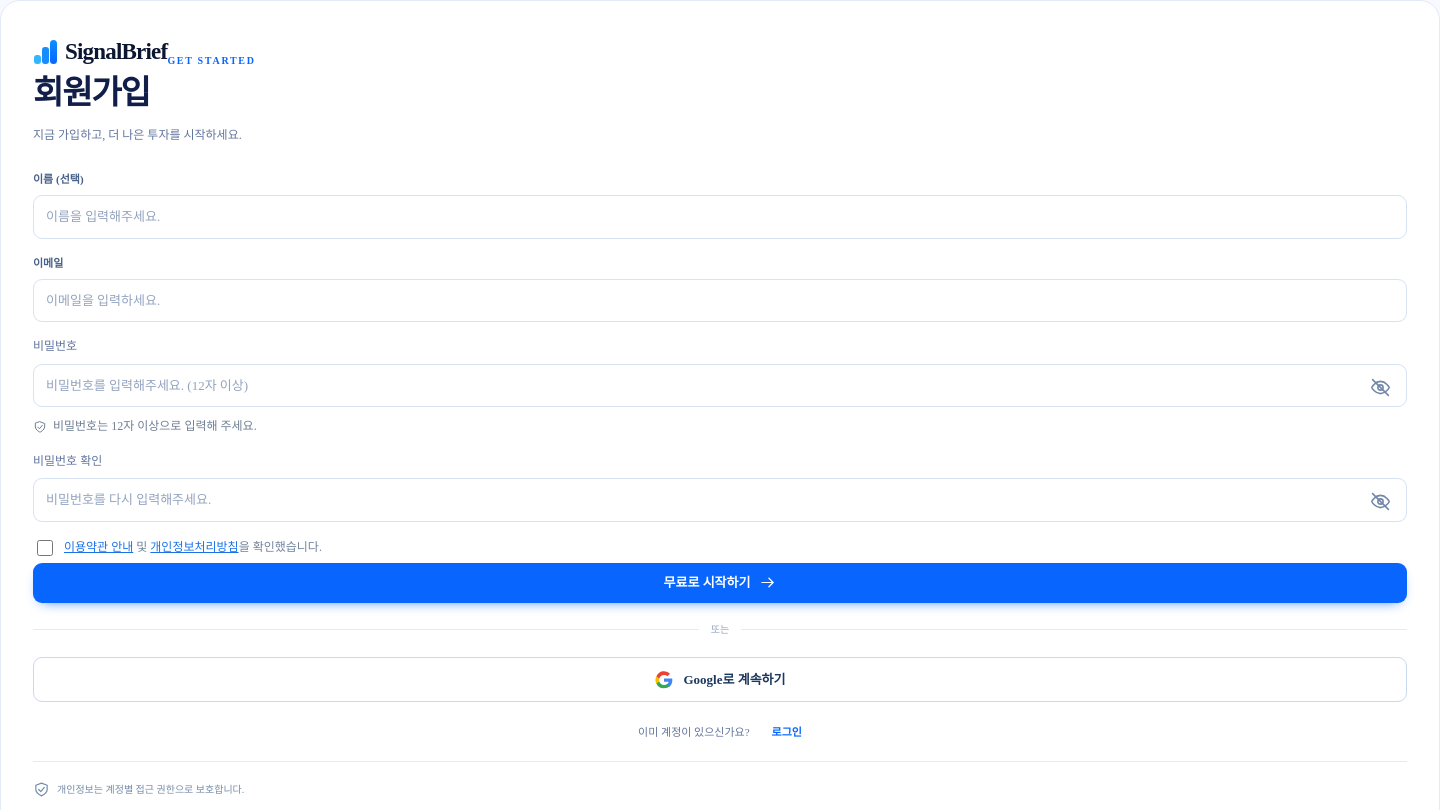
Test: rejects mismatching signup passwords before contacting Supabase
Type "fixture@example.com" into the field labelled "이메일" at (720, 300), box [33, 279, 1407, 322]
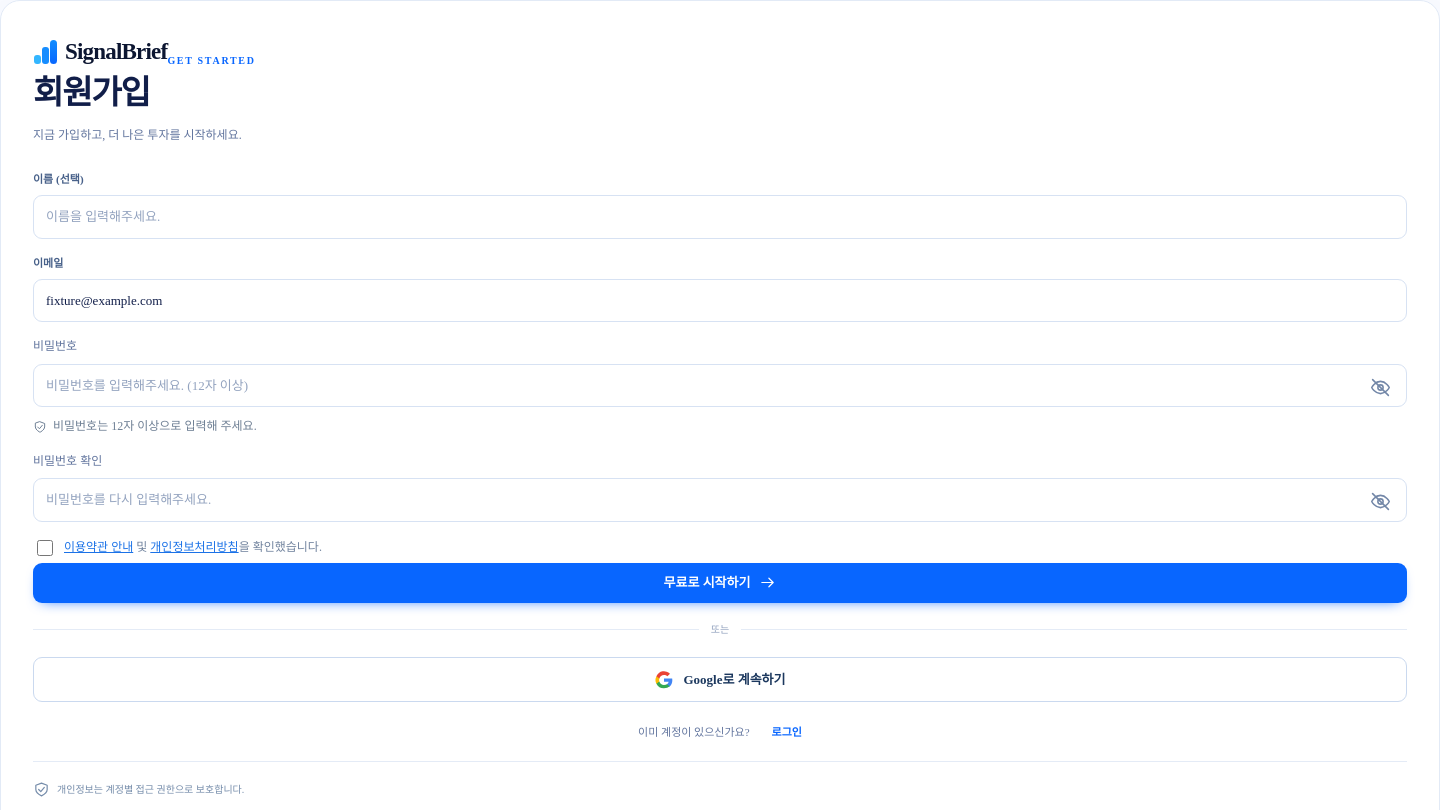
Type "fixture-password-123" into the password field labelled "비밀번호" at (720, 386), box [33, 364, 1407, 407]
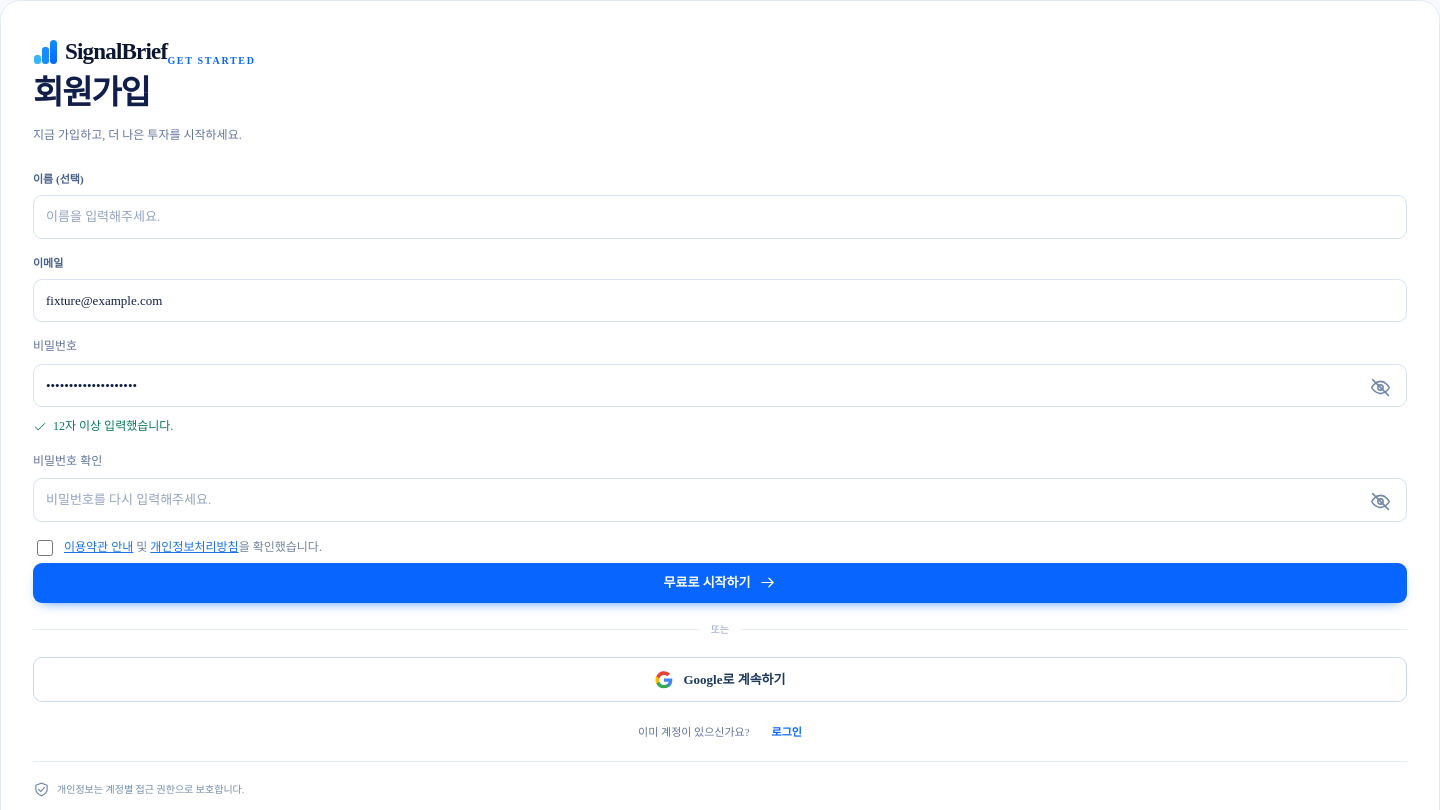
Type "different-password-123" into the password field labelled "비밀번호 확인" at (720, 500), box [33, 478, 1407, 522]
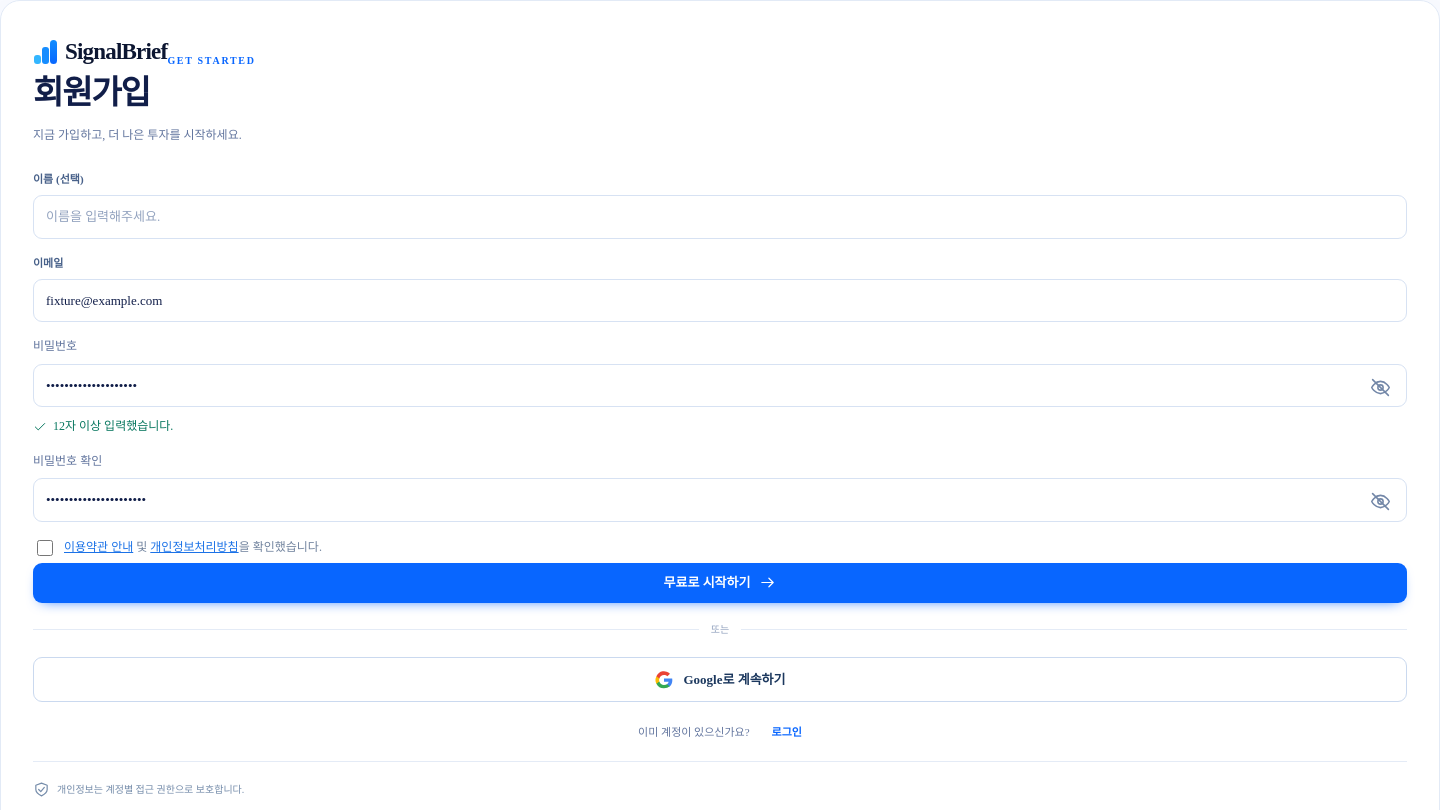
Click the checkbox at (45, 548), box [37, 540, 53, 556]
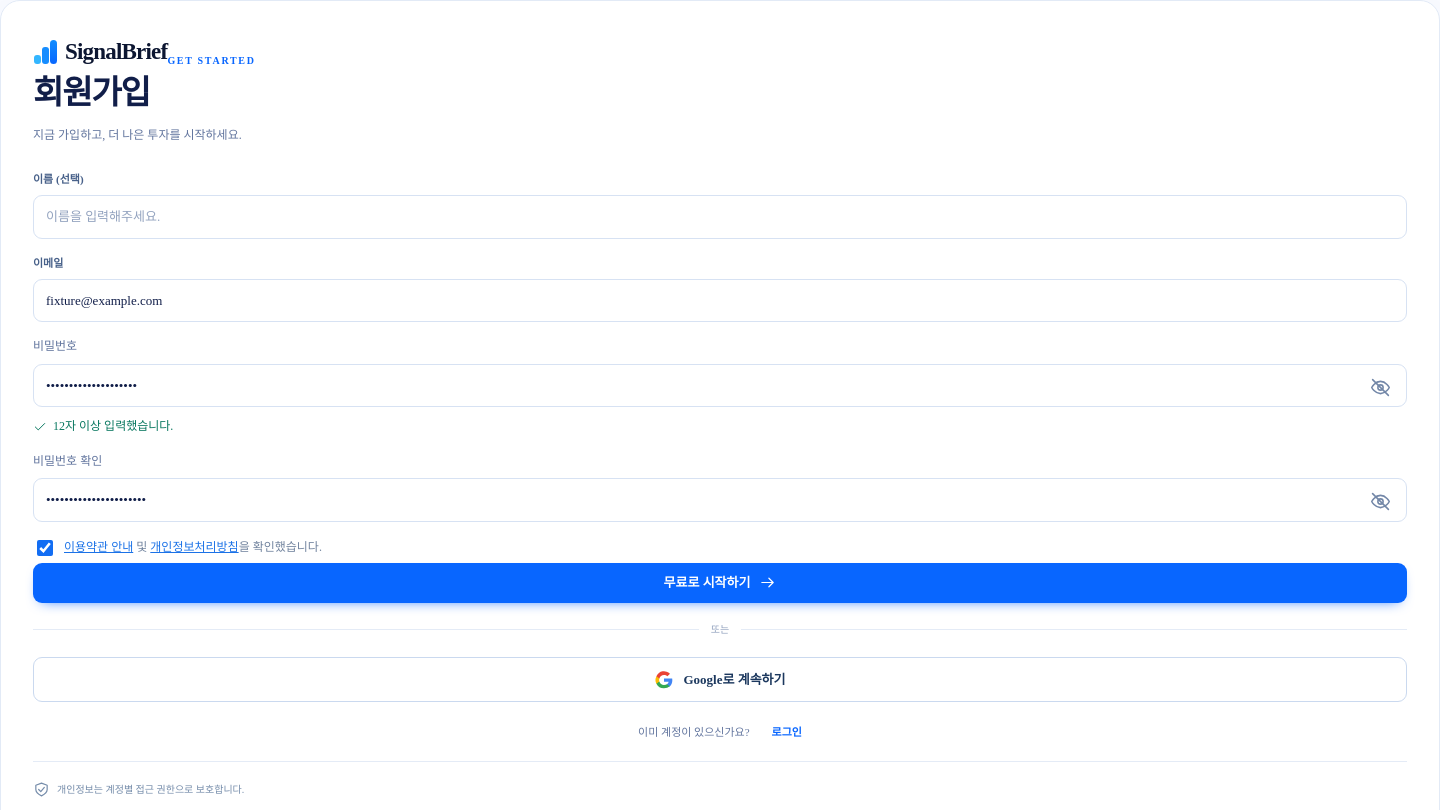
Submit the form "무료로 시작하기", box [33, 170, 1407, 603]
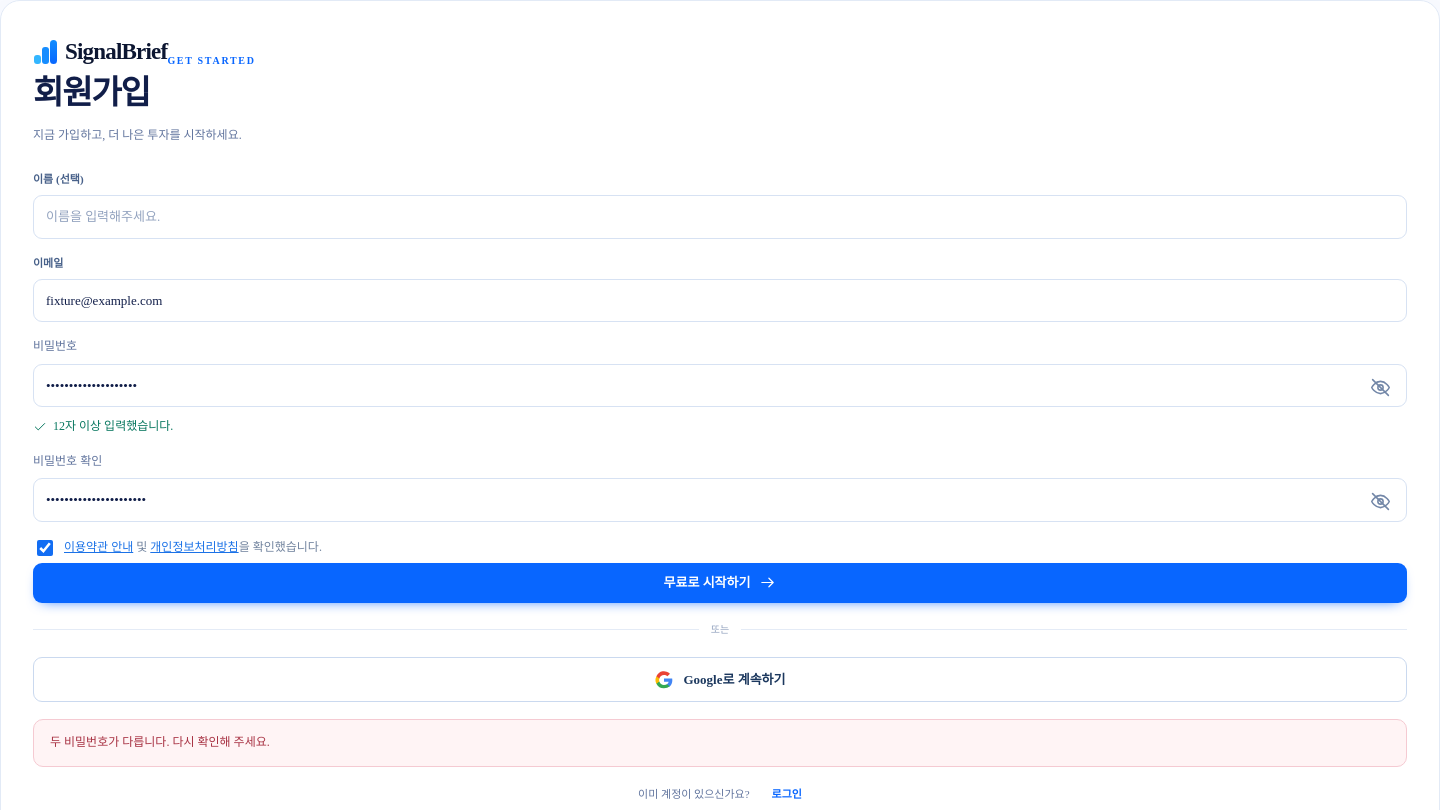
Check: the message shows "두 비밀번호가 다릅니다", box [50, 735, 270, 749]
